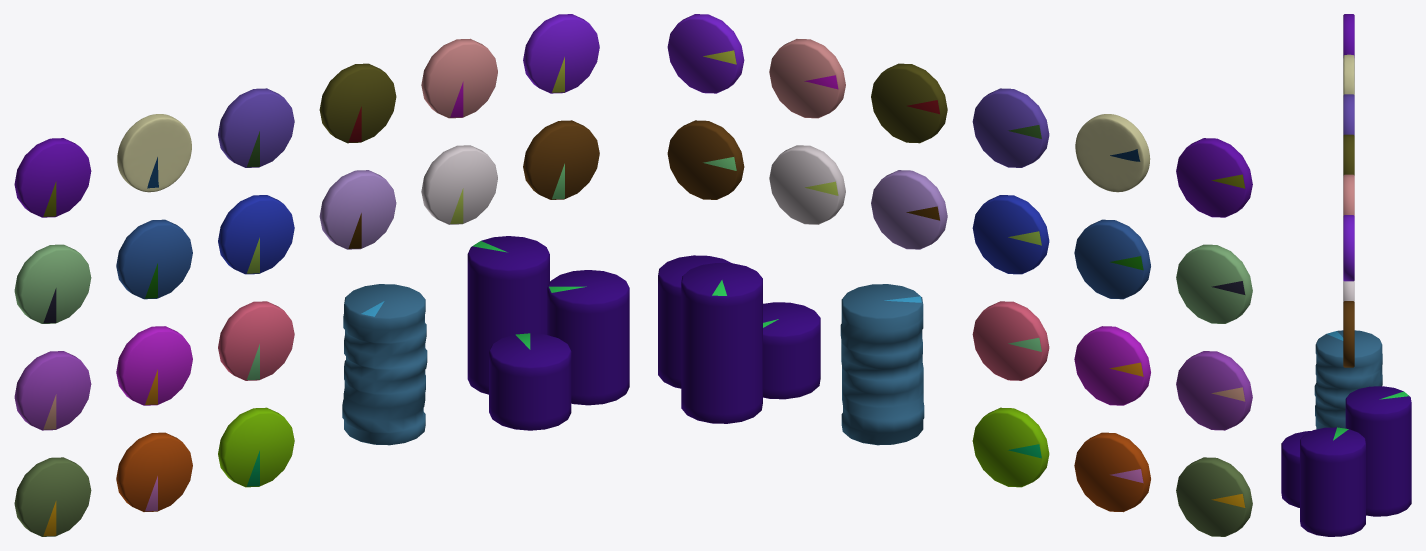
File: RipScript.fbx
3 views of the same model, side by side, from view 1: azimuth 30°, elevation 25°; view 2: azimuth 150°, elevation 25°; view 3: azimuth 270°, elevation 25° (orthographic). The views are drawn at different scales.
Visible parts, largest first — view 1: 019_0_19, 018_0_18, 015_0_15, 002_0_2, 009_0_9, 006_0_6, 001_0_1, 016_0_16, 011_0_11, 017_0_17, 003_0_3, 013_0_13 (+8 smaller); view 2: 019_0_19, 018_0_18, 016_0_16, 014_0_14, 000_0_0, 009_0_9, 015_0_15, 006_0_6, 012_0_12, 011_0_11, 007_0_7, 003_0_3 (+8 smaller); view 3: 019_0_19, 018_0_18, 013_0_13, 012_0_12, 015_0_15, 008_0_8, 007_0_7, 000_0_0, 004_0_4, 009_0_9.
Boxes of the visible parts, x1,y1,x2,y2 form: 019_0_19: [467, 236, 629, 430]; 018_0_18: [342, 284, 427, 445]; 015_0_15: [14, 138, 91, 217]; 002_0_2: [14, 457, 91, 536]; 009_0_9: [421, 145, 497, 224]; 006_0_6: [319, 170, 396, 249]; 001_0_1: [218, 195, 294, 274]; 016_0_16: [116, 326, 192, 405]; 011_0_11: [218, 301, 294, 380]; 017_0_17: [116, 432, 192, 511]; 003_0_3: [14, 351, 91, 430]; 013_0_13: [523, 120, 599, 199]; 019_0_19: [658, 255, 820, 423]; 018_0_18: [840, 284, 924, 445]; 016_0_16: [1074, 326, 1150, 405]; 014_0_14: [1176, 244, 1252, 323]; 000_0_0: [972, 88, 1049, 167]; 009_0_9: [769, 145, 845, 224]; 015_0_15: [1176, 138, 1252, 217]; 006_0_6: [871, 170, 947, 249]; 012_0_12: [667, 14, 744, 93]; 011_0_11: [972, 301, 1049, 380]; 007_0_7: [871, 63, 947, 143]; 003_0_3: [1176, 351, 1252, 430]; 019_0_19: [1281, 386, 1411, 536]; 018_0_18: [1314, 330, 1382, 429]; 013_0_13: [1343, 301, 1354, 367]; 012_0_12: [1343, 215, 1354, 281]; 015_0_15: [1343, 14, 1354, 57]; 008_0_8: [1343, 174, 1354, 215]; 007_0_7: [1343, 134, 1354, 175]; 000_0_0: [1343, 94, 1354, 135]; 004_0_4: [1343, 54, 1354, 94]; 009_0_9: [1343, 281, 1354, 301].
Size of the model in its own units: 586 by 370 by 137.
